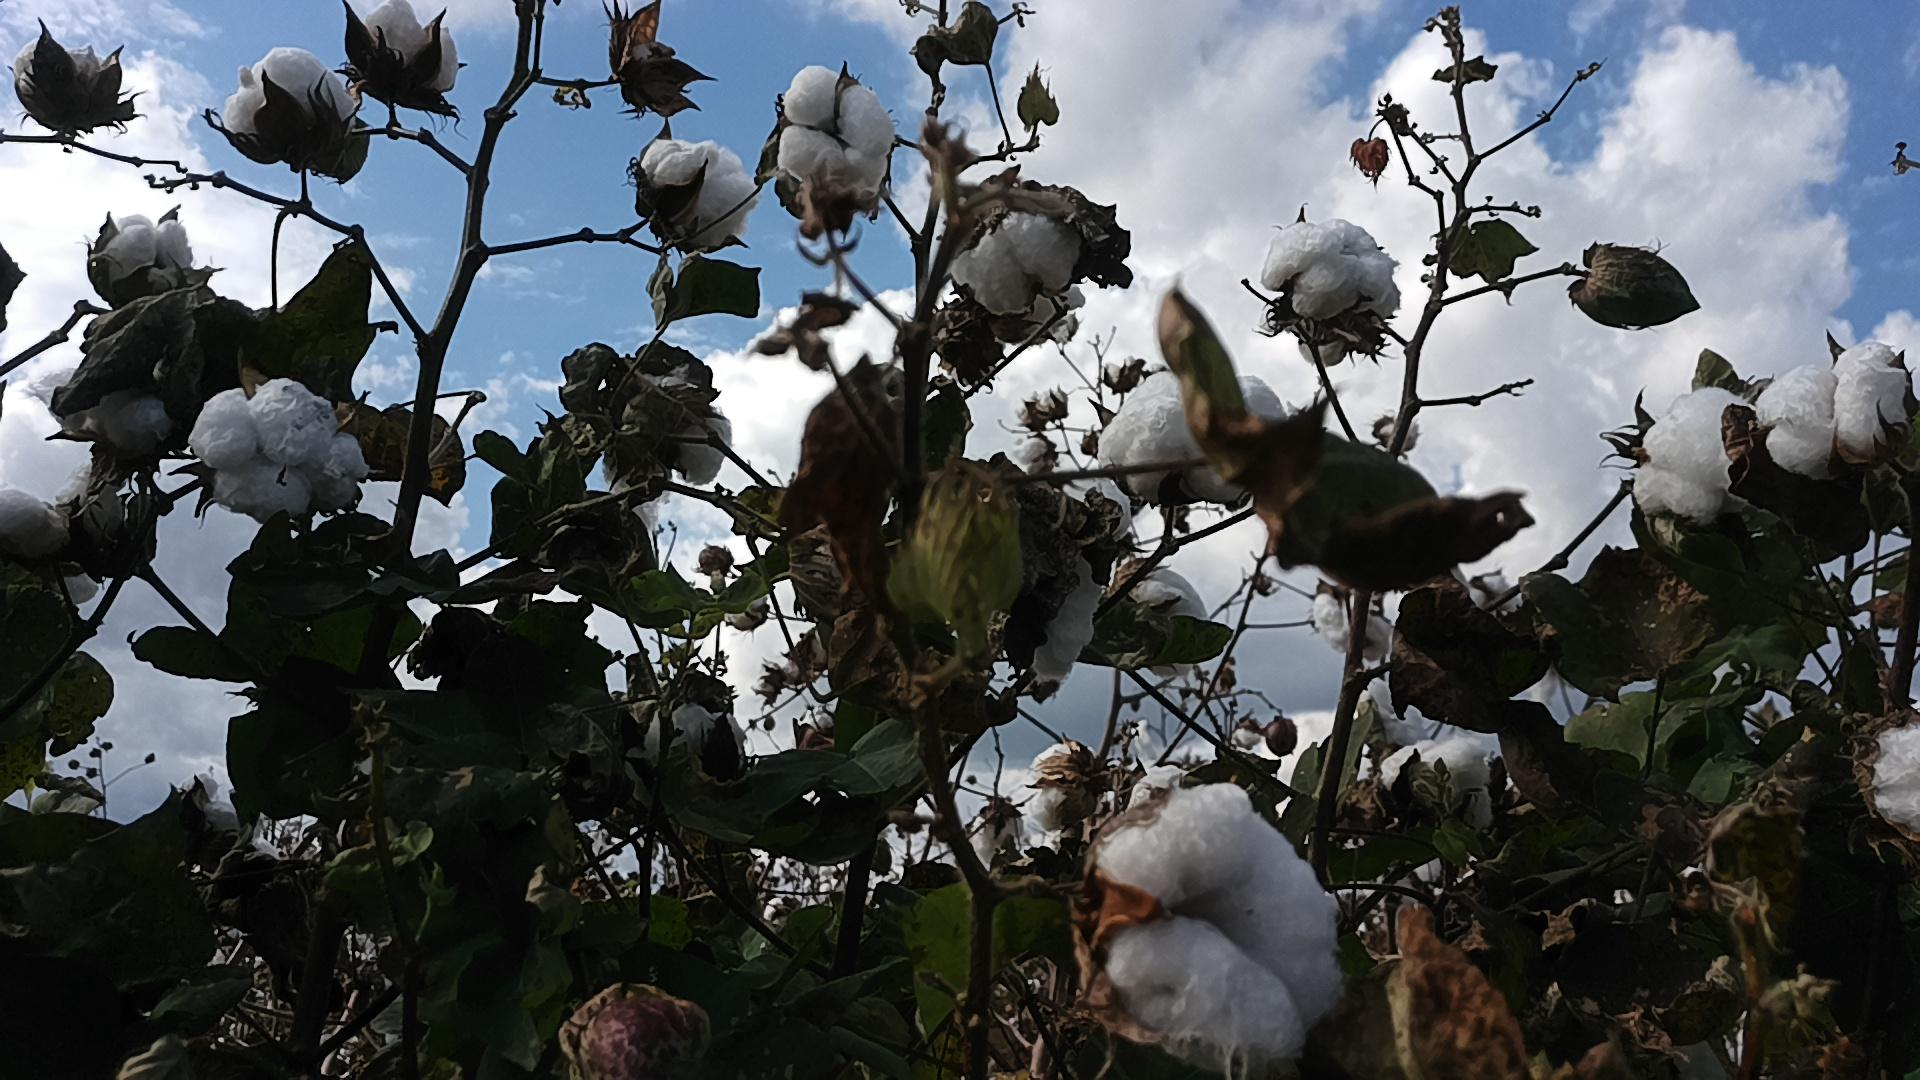cotton_ready: (1089, 783, 1350, 1072), (187, 377, 368, 530), (1101, 371, 1288, 505), (1758, 338, 1912, 477), (1259, 215, 1400, 363), (1630, 384, 1759, 526), (0, 463, 128, 605), (948, 208, 1098, 322), (771, 66, 898, 198), (220, 45, 368, 148), (642, 137, 761, 251), (1375, 737, 1501, 837), (348, 0, 463, 100), (1122, 564, 1211, 683), (15, 40, 123, 120), (94, 218, 198, 295), (1863, 716, 1920, 833)
